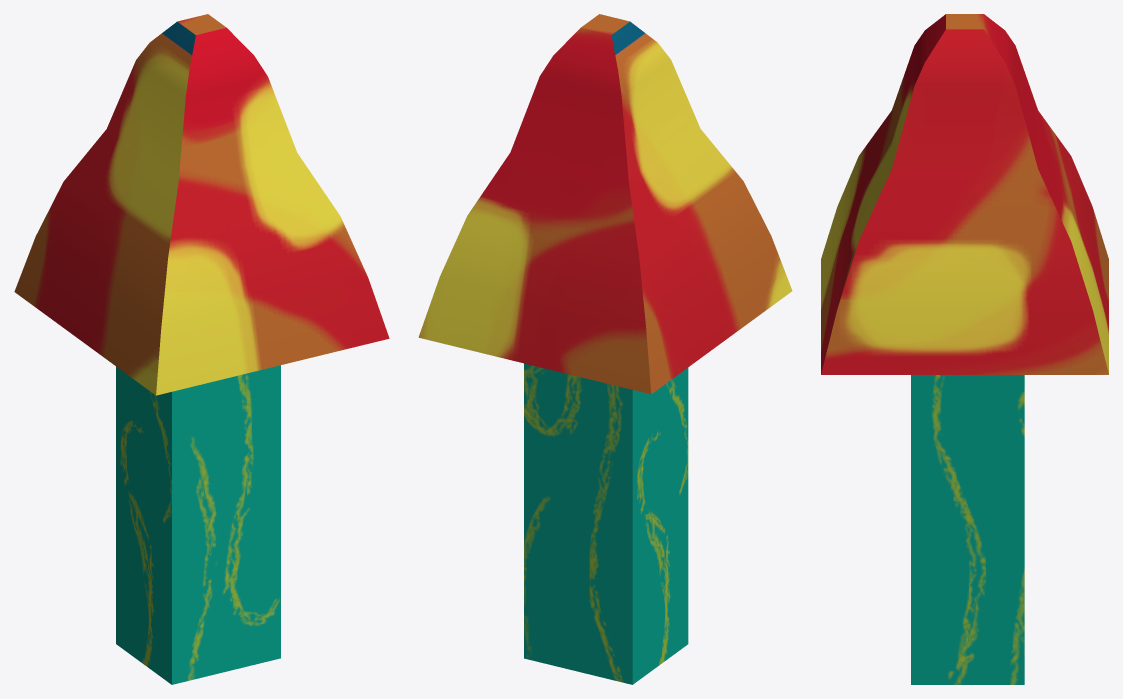
The model's file is Shroom 1 F.FBX.
The picture shows the model from 3 angles, left to right: view 1: azimuth 30°, elevation 25°; view 2: azimuth 150°, elevation 25°; view 3: azimuth 270°, elevation 25°; orthographic projection.
Visible parts, largest first — view 1: Shroom 1; view 2: Shroom 1; view 3: Shroom 1.
Boxes of the visible parts, x1,y1,x2,y2 form: Shroom 1: (14,14,389,684); Shroom 1: (418,14,792,684); Shroom 1: (821,14,1108,684).
Size of the model in its own units: 143 by 366 by 150.
